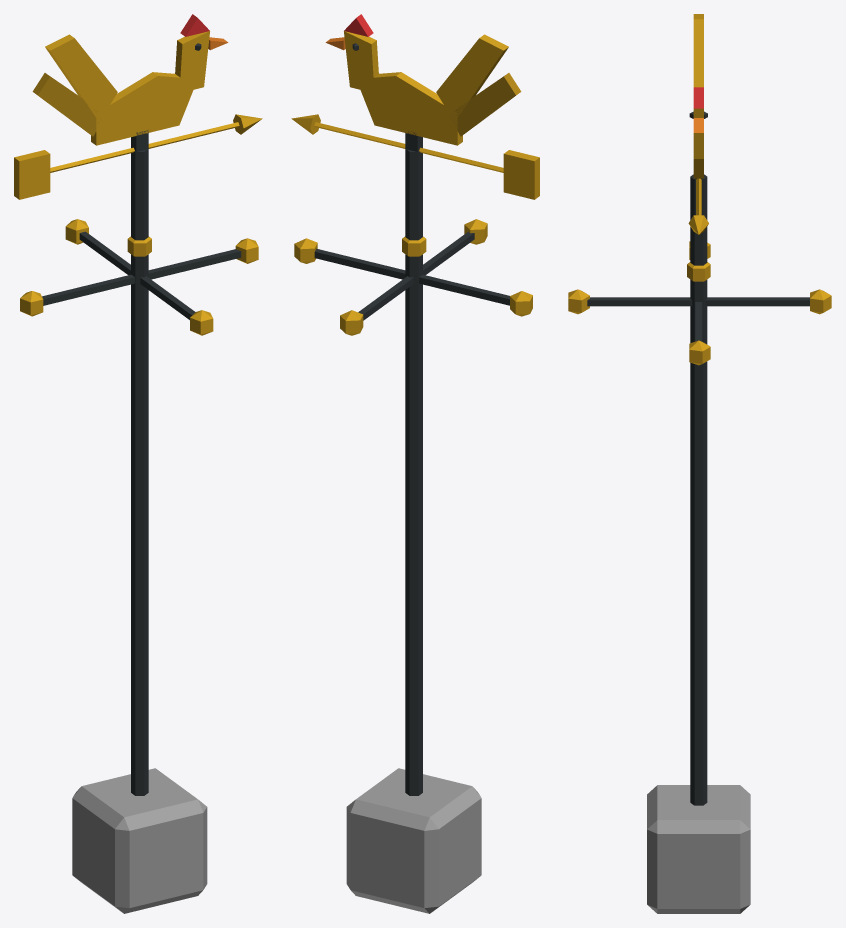
Rendered from wetterhahn.glb.
The picture shows the model from 3 angles, left to right: view 1: azimuth 30°, elevation 25°; view 2: azimuth 150°, elevation 25°; view 3: azimuth 270°, elevation 25°; orthographic projection. The views are drawn at different scales.
Visible parts, largest first — view 1: wetterhahn-m, hahn-m; view 2: wetterhahn-m, hahn-m; view 3: wetterhahn-m, hahn-m.
Part boxes in pixels (left/top/right/bottom): wetterhahn-m: left=20, top=149, right=258, bottom=913; hahn-m: left=14, top=14, right=262, bottom=199; wetterhahn-m: left=294, top=149, right=532, bottom=913; hahn-m: left=291, top=14, right=539, bottom=199; wetterhahn-m: left=568, top=174, right=831, bottom=913; hahn-m: left=688, top=14, right=708, bottom=234.
Size of the model in its own units: 0.8 by 2.7 by 0.7627.
